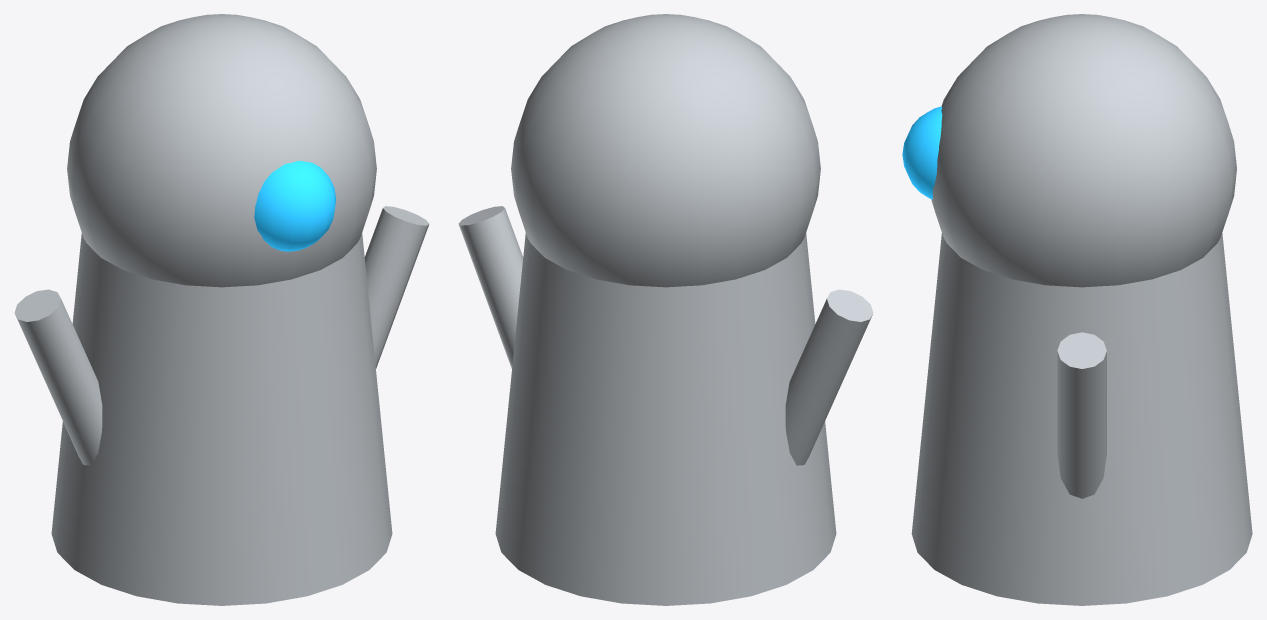
File: droid.glb
The picture shows the model from 3 angles, left to right: view 1: azimuth 30°, elevation 25°; view 2: azimuth 150°, elevation 25°; view 3: azimuth 270°, elevation 25°; orthographic projection.
Visible parts, largest first — view 1: Capsule Droid; view 2: Capsule Droid; view 3: Capsule Droid.
Part boxes in pixels (x1,y1,x2,y2): Capsule Droid: (14, 14, 429, 605); Capsule Droid: (458, 14, 873, 605); Capsule Droid: (902, 14, 1252, 605).
Bounding box in the file's own units: 1.52 × 1.8 × 1.13.
